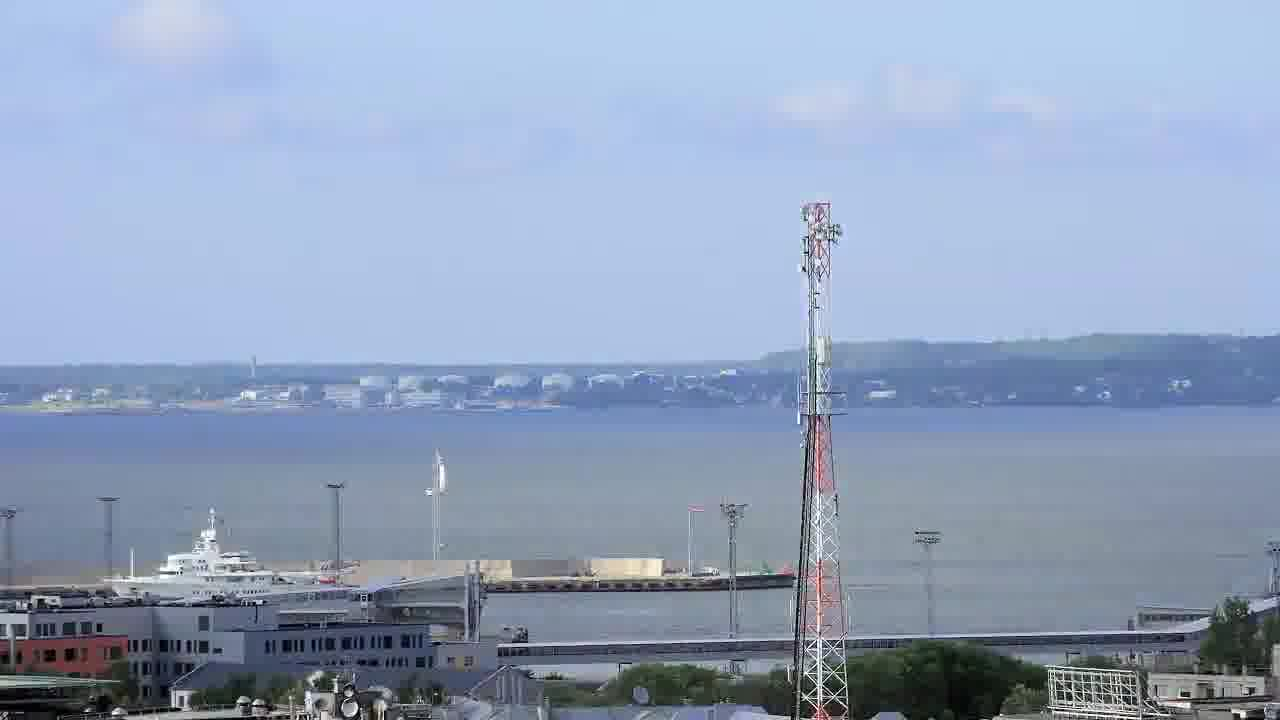type-2: (403, 444, 461, 513)
type-3: (84, 515, 355, 603)
